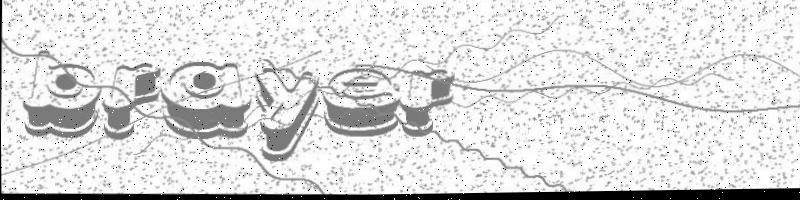a: (160, 61, 250, 142)
b: (18, 48, 102, 139)
e: (321, 67, 401, 140)
r: (102, 61, 161, 143), (403, 68, 455, 141)
y: (249, 67, 323, 165)
